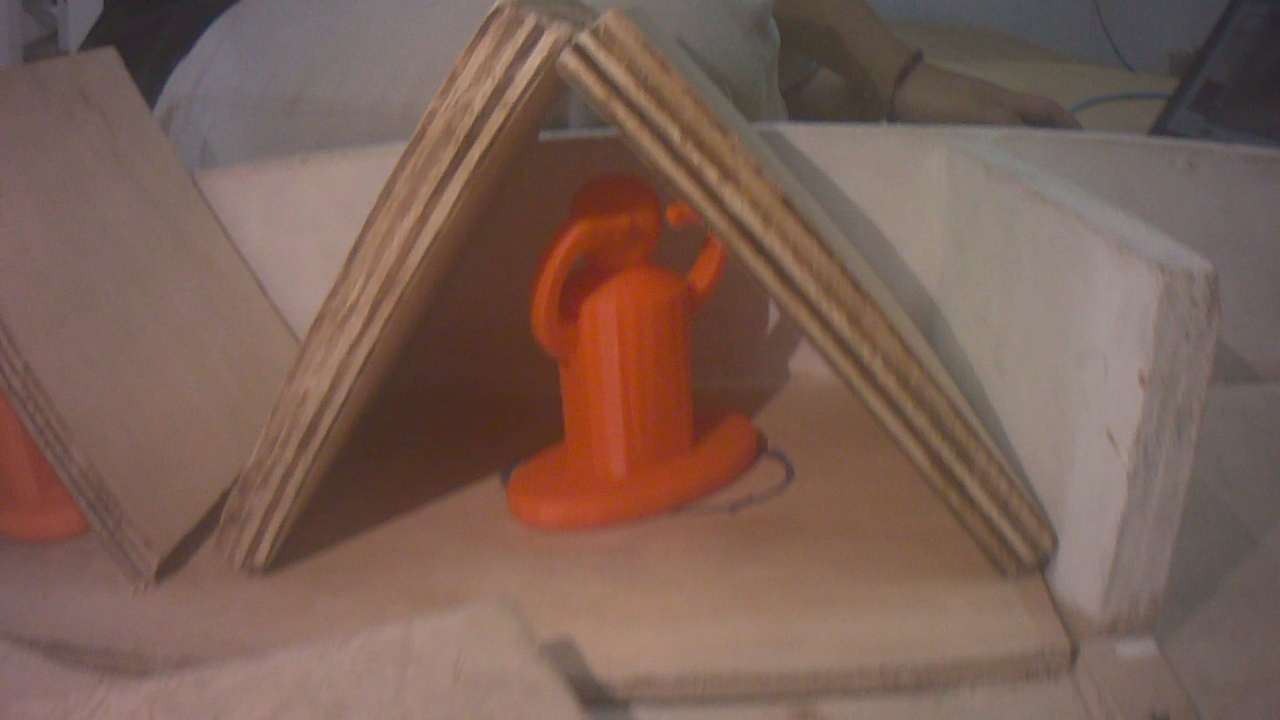real: (486, 184, 769, 524)
